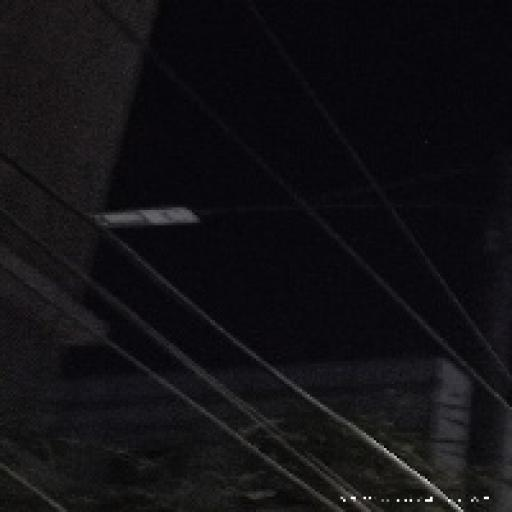Not Working: (82, 191, 216, 252)
